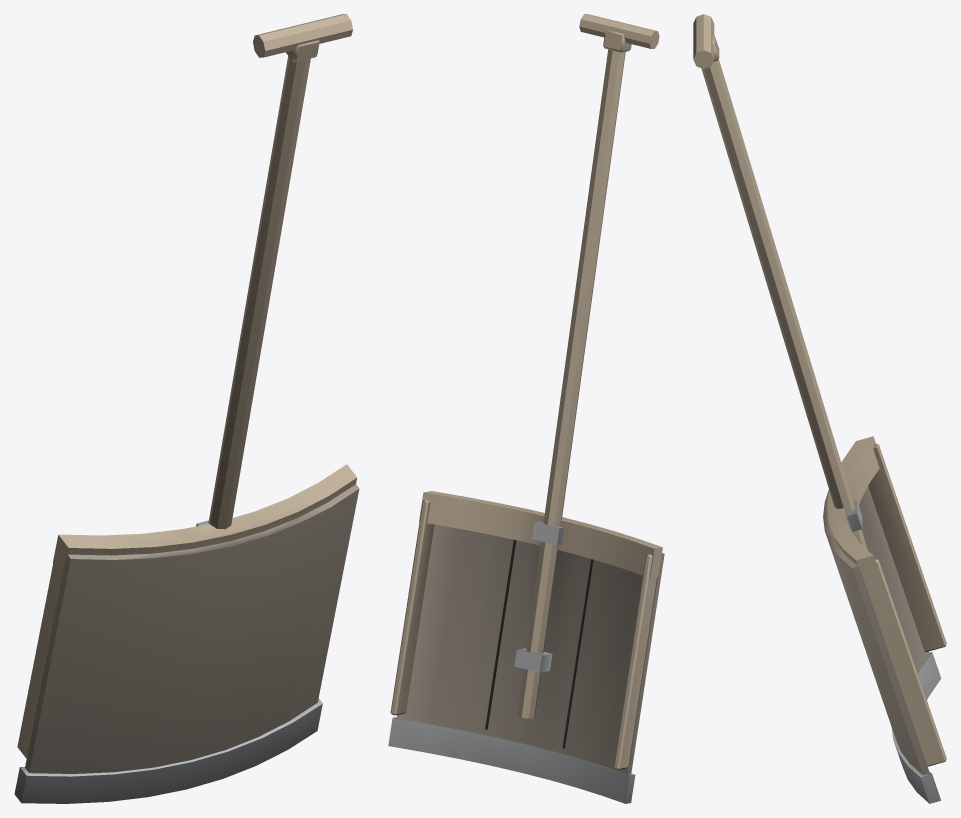
The model's file is snow_shovel_out.glb.
3 views of the same model, side by side, from view 1: azimuth 30°, elevation 25°; view 2: azimuth 150°, elevation 25°; view 3: azimuth 270°, elevation 25° (orthographic). The views are drawn at different scales.
Visible parts, largest first — view 1: static; view 2: static; view 3: static.
Boxes of the visible parts, x1,y1,x2,y2 form: static: (14,14,359,803); static: (388,14,664,803); static: (693,14,946,803).
Size of the model in its own units: 0.472 by 1.29 by 0.4133.
